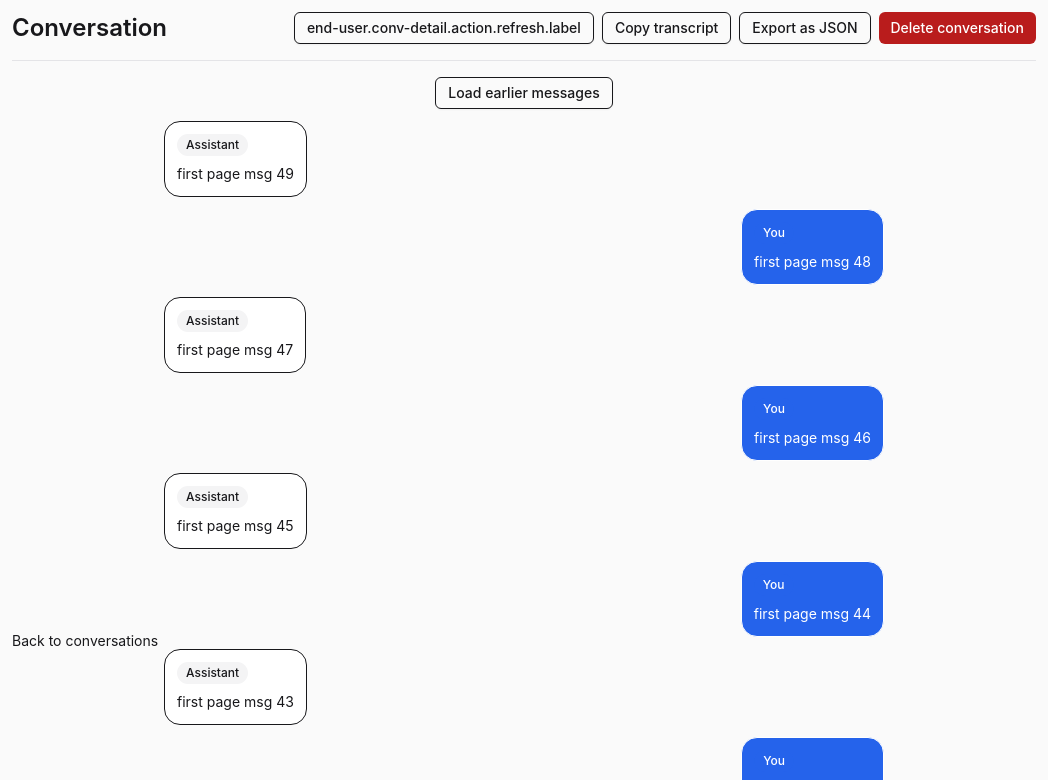
Scenario: ConversationDetailClient (Phase 07.1 / Plan 11) › renders Load-earlier when messages.length >= PAGE_LIMIT and clicking fetches next keyset page
Click the button "Load earlier messages" at {"x": 524, "y": 93}, box left=435, top=77, right=613, bottom=109
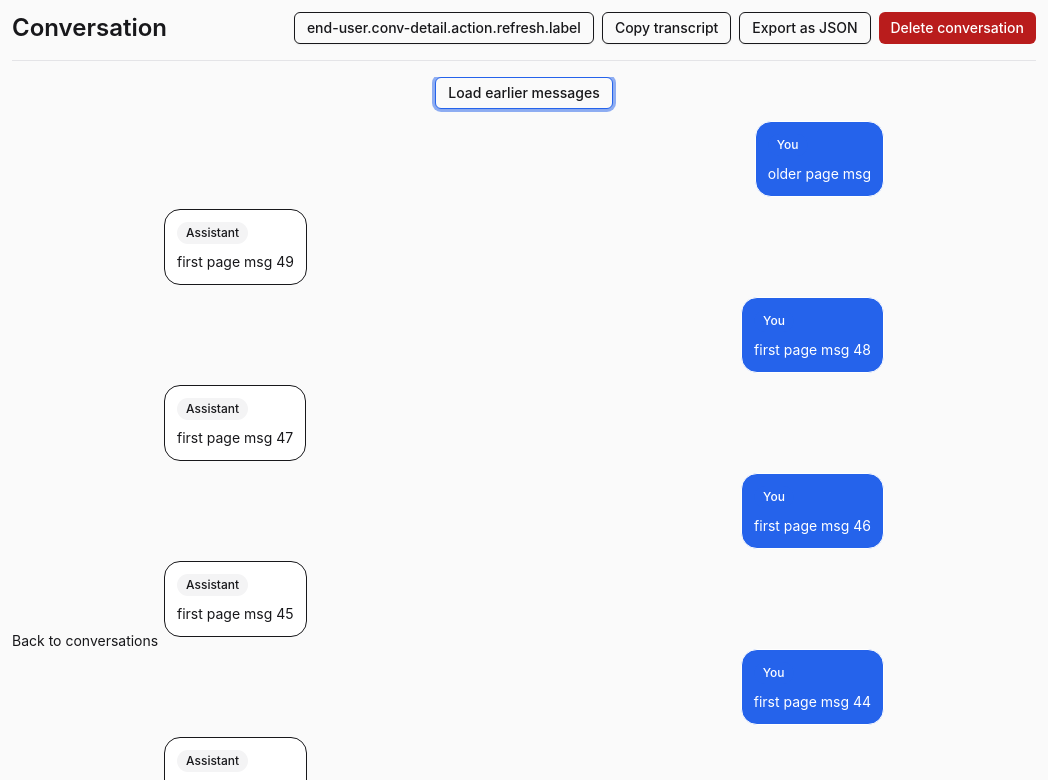
Expected: the text "older page msg" is shown, left=768, top=164, right=871, bottom=184
